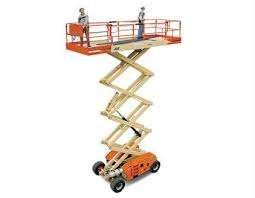Scissor Lift: (65, 17, 183, 193)
